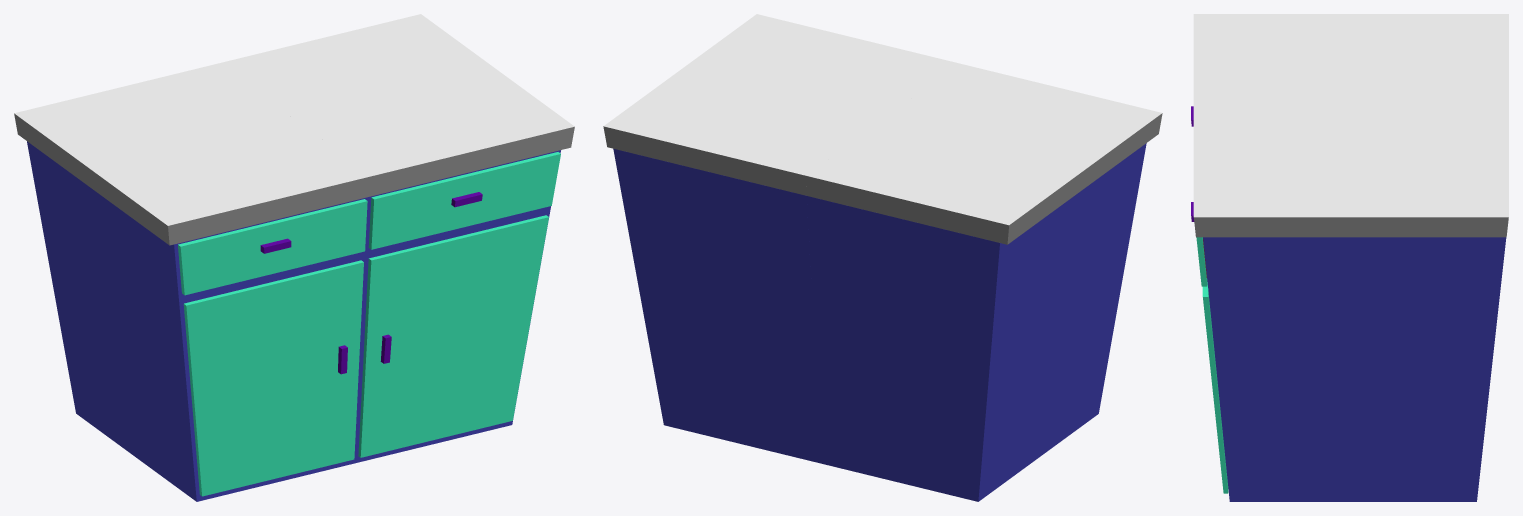
The model's file is House_Kitchen_Cupboard_Floor_twoShelves.FBX.
3 renders of one model, left to right at view 1: azimuth 30°, elevation 25°; view 2: azimuth 150°, elevation 25°; view 3: azimuth 270°, elevation 25°, orthographic. The views are drawn at different scales.
Visible parts, largest first — view 1: House_Kitchen_Cupboard_Floor_twoShelves_counterTopLeft, House_Kitchen_Cupboard_Floor_twoShelves_bodyLeft, House_Kitchen_Cupboard_Floor_counterTopRight, House_Kitchen_Cupboard_Floor_twoShelves_doorRight, House_Kitchen_Cupboard_Floor_twoShelves_doorLeft, House_Kitchen_Cupboard_Floor_twoShelves_drawerRight, House_Kitchen_Cupboard_Floor_twoShelves_drawerLeft, House_Kitchen_Cupboard_Floor_twoShelves_bodyRight; view 2: House_Kitchen_Cupboard_Floor_twoShelves_bodyLeft, House_Kitchen_Cupboard_Floor_twoShelves_bodyRight, House_Kitchen_Cupboard_Floor_twoShelves_counterTopLeft, House_Kitchen_Cupboard_Floor_counterTopRight; view 3: House_Kitchen_Cupboard_Floor_twoShelves_bodyRight, House_Kitchen_Cupboard_Floor_counterTopRight, House_Kitchen_Cupboard_Floor_twoShelves_counterTopLeft, House_Kitchen_Cupboard_Floor_twoShelves_doorRight, House_Kitchen_Cupboard_Floor_twoShelves_drawerRight.
Boxes of the visible parts, bbox=[...] form: House_Kitchen_Cupboard_Floor_twoShelves_counterTopLeft: bbox=[14, 63, 371, 245]; House_Kitchen_Cupboard_Floor_twoShelves_bodyLeft: bbox=[27, 141, 367, 501]; House_Kitchen_Cupboard_Floor_counterTopRight: bbox=[218, 14, 574, 196]; House_Kitchen_Cupboard_Floor_twoShelves_doorRight: bbox=[358, 215, 548, 457]; House_Kitchen_Cupboard_Floor_twoShelves_doorLeft: bbox=[183, 260, 363, 496]; House_Kitchen_Cupboard_Floor_twoShelves_drawerRight: bbox=[368, 152, 560, 249]; House_Kitchen_Cupboard_Floor_twoShelves_drawerLeft: bbox=[178, 199, 367, 295]; House_Kitchen_Cupboard_Floor_twoShelves_bodyRight: bbox=[354, 150, 560, 463]; House_Kitchen_Cupboard_Floor_twoShelves_bodyLeft: bbox=[806, 143, 1146, 501]; House_Kitchen_Cupboard_Floor_twoShelves_bodyRight: bbox=[613, 148, 820, 463]; House_Kitchen_Cupboard_Floor_twoShelves_counterTopLeft: bbox=[805, 63, 1162, 244]; House_Kitchen_Cupboard_Floor_counterTopRight: bbox=[603, 14, 958, 195]; House_Kitchen_Cupboard_Floor_twoShelves_bodyRight: bbox=[1203, 237, 1506, 501]; House_Kitchen_Cupboard_Floor_counterTopRight: bbox=[1193, 116, 1508, 237]; House_Kitchen_Cupboard_Floor_twoShelves_counterTopLeft: bbox=[1193, 14, 1508, 115]; House_Kitchen_Cupboard_Floor_twoShelves_doorRight: bbox=[1202, 282, 1228, 493]; House_Kitchen_Cupboard_Floor_twoShelves_drawerRight: bbox=[1191, 202, 1207, 286].
Size of the model in its own units: 227 by 160 by 150.
